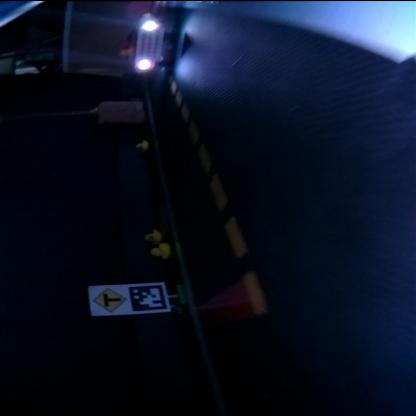Duckie: (151, 244, 170, 258), (146, 230, 160, 241), (134, 140, 148, 148)
Duckiebot: (131, 17, 171, 71)
Intersection sign: (92, 286, 126, 314)
QR code: (127, 284, 167, 312)
